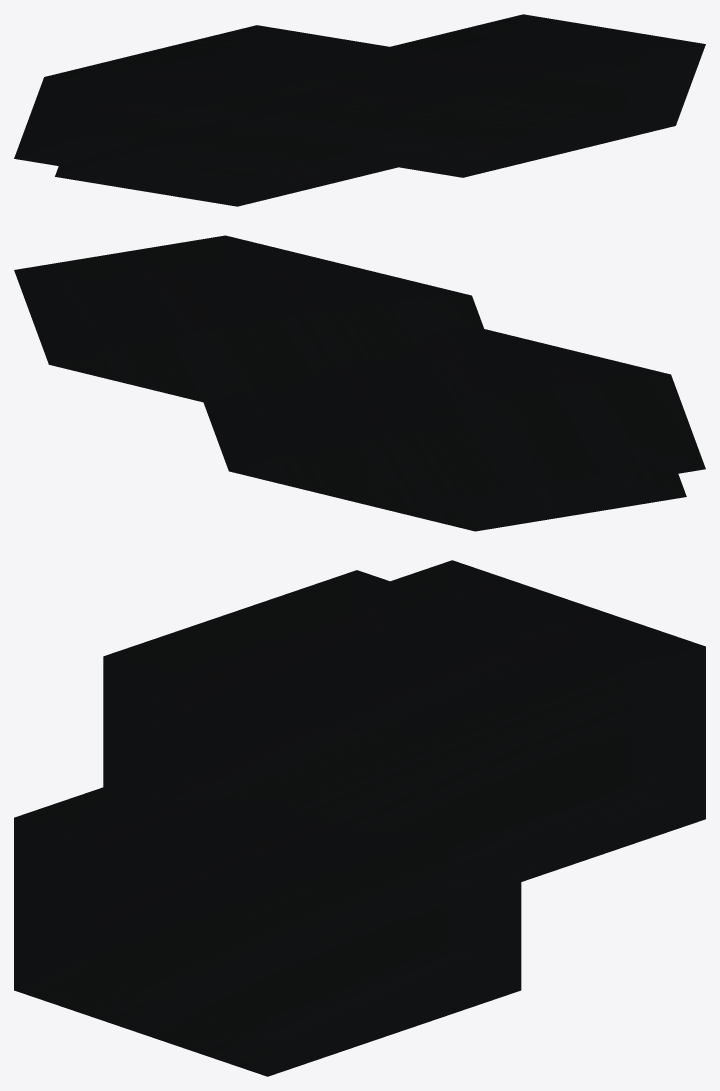
The model's file is PROP-DED91ED32490_lod2.glb.
The picture shows the model from 3 angles, top to bottom: view 1: azimuth 30°, elevation 25°; view 2: azimuth 150°, elevation 25°; view 3: azimuth 270°, elevation 25°; orthographic projection. The views are drawn at different scales.
Visible parts, largest first — view 1: surface_hazard.005; view 2: surface_hazard.005; view 3: surface_hazard.005.
Boxes of the visible parts, left/top/right/bottom form: surface_hazard.005: left=14, top=14, right=705, bottom=206; surface_hazard.005: left=14, top=235, right=705, bottom=531; surface_hazard.005: left=14, top=560, right=705, bottom=1076.
Size of the model in its own units: 1.79 by 0.036 by 1.02.
1 material, 1 textured.
